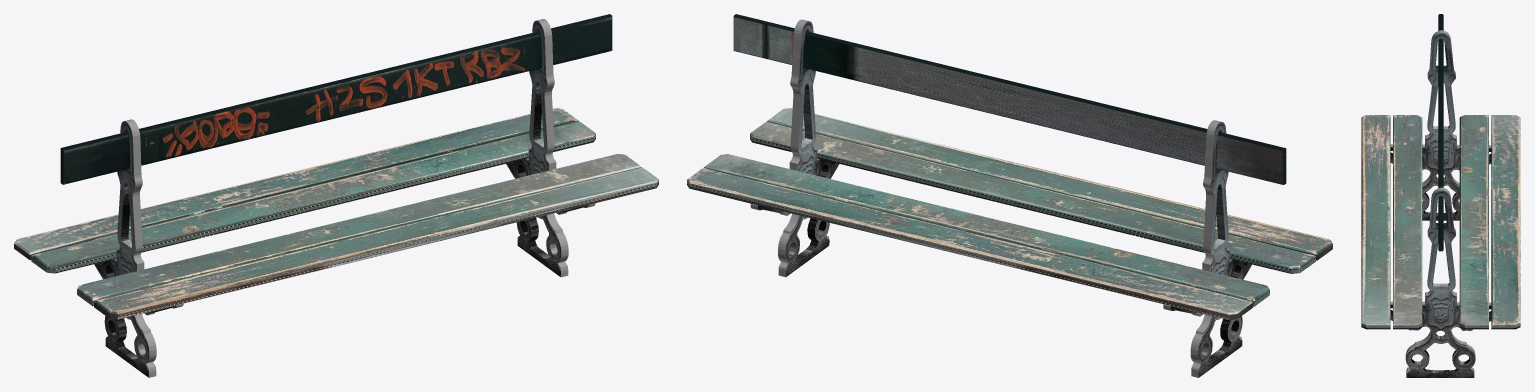
The model's file is Bench001.gltf.
3 renders of one model, left to right at view 1: azimuth 30°, elevation 25°; view 2: azimuth 150°, elevation 25°; view 3: azimuth 270°, elevation 25°, orthographic. The views are drawn at different scales.
Visible parts, largest first — view 1: Bench001; view 2: Bench001; view 3: Bench001.
Part boxes in pixels (bbox=[...]): Bench001: bbox=[14, 14, 658, 377]; Bench001: bbox=[687, 14, 1332, 377]; Bench001: bbox=[1361, 14, 1520, 377].
Bounding box in the file's own units: 3.5 × 1.46 × 1.12.
Materials: 5 (4 with a texture image).
